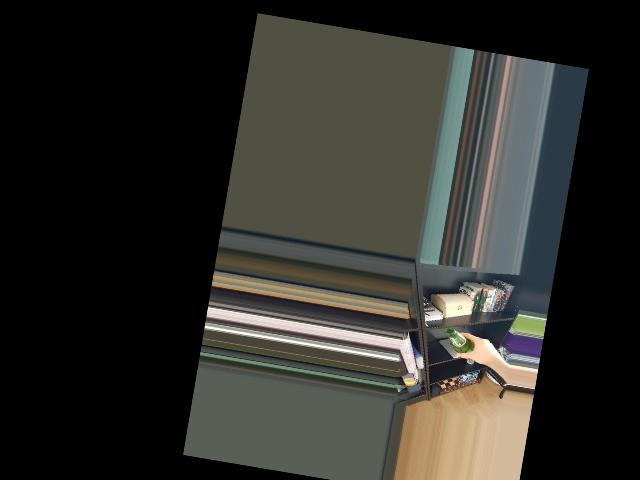beer: (441, 327, 479, 361)
